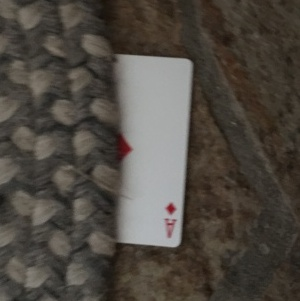card: (108, 54, 192, 247)
